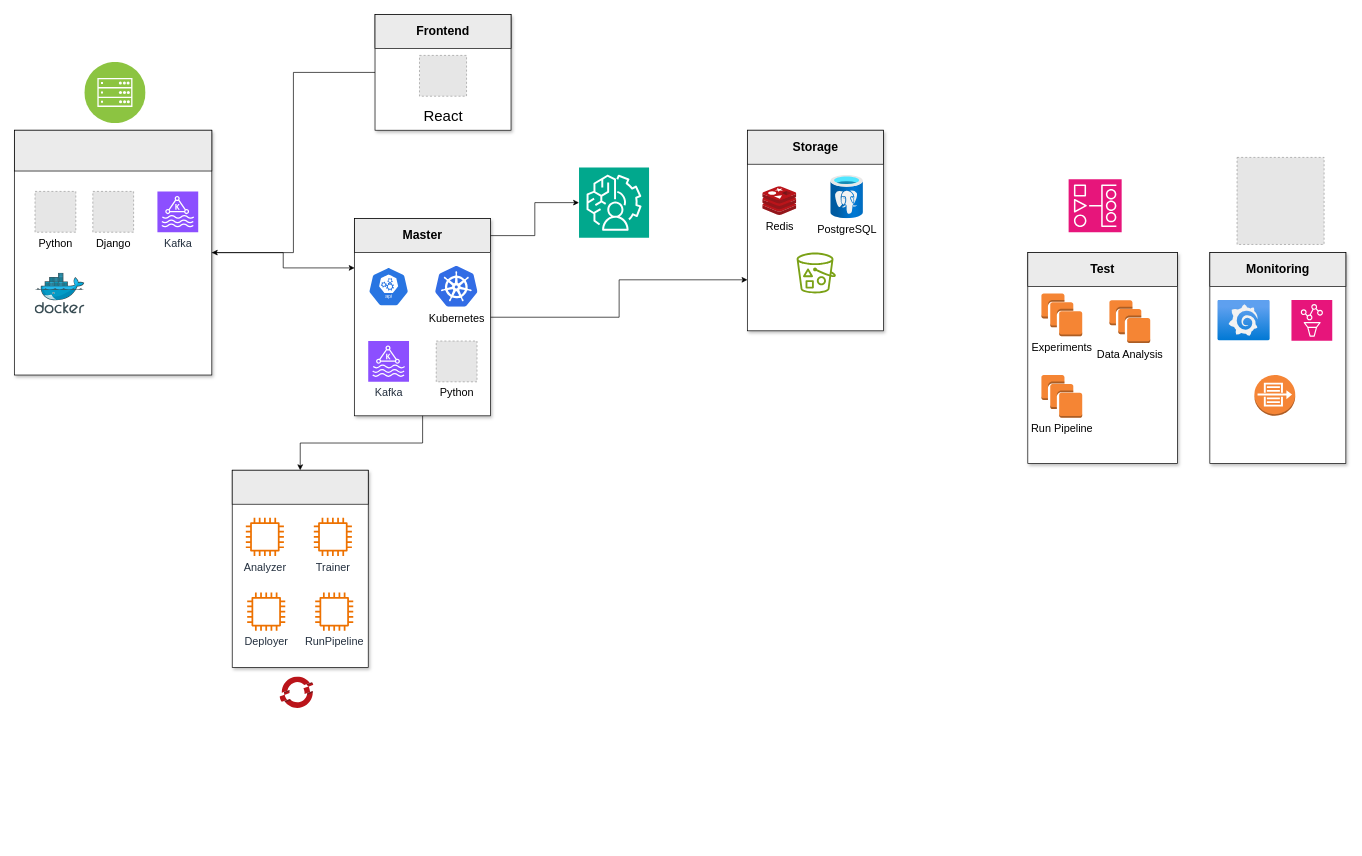
Image size: 1362x856. Some labels were removed from this diagram. Grey dashed boxes stand in for pictures. Each missing label, with the centre of its shape:
"Apache Airflow" belongs at pixel 1095 205.
"Backend Service" belongs at pixel 113 150.
"FastApi" belongs at pixel 388 286.
"Grafana" belongs at pixel 1243 320.
"Loki Logging" belongs at pixel 1274 395.
"OBJECT STORAGE" belongs at pixel 816 272.
"Openshift" belongs at pixel 296 692.
"Prometheus" belongs at pixel 1311 320.
"Turkcell Automl" belongs at pixel 613 202.
"Workers" belongs at pixel 300 487.
